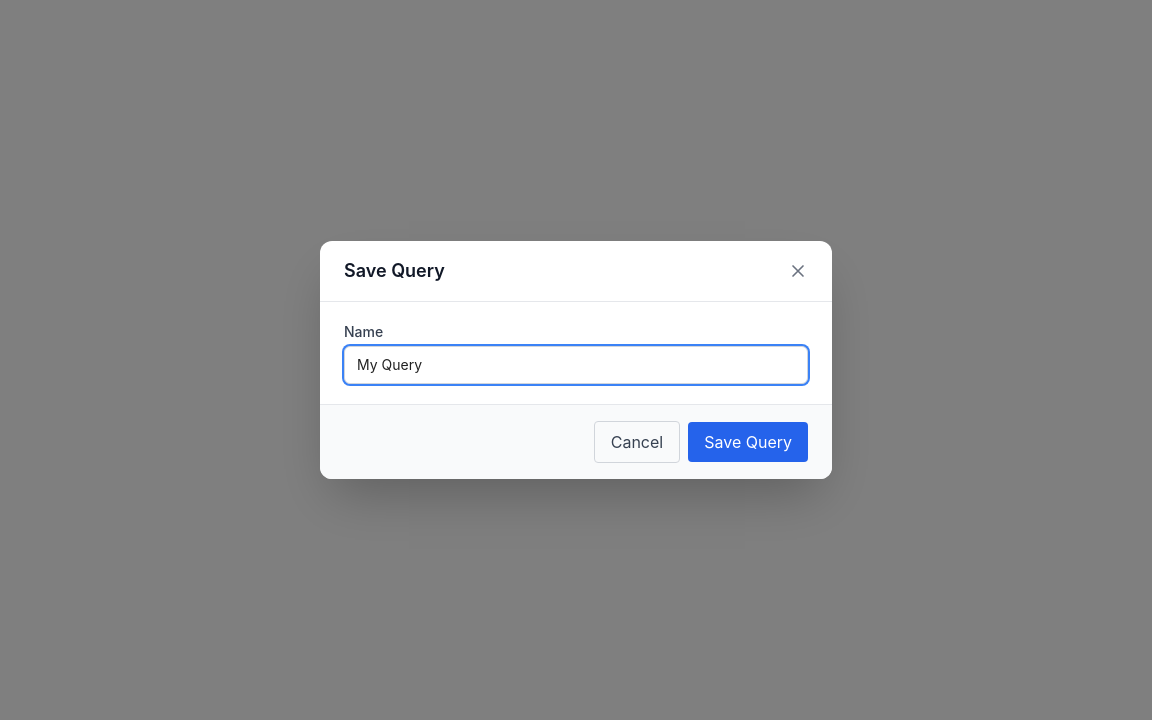
Test: SaveQueryModal Component › Form Validation › shows error for empty name
Clear the name field first
Clear the field labelled "Name": (576, 365) [344,346,808,384]
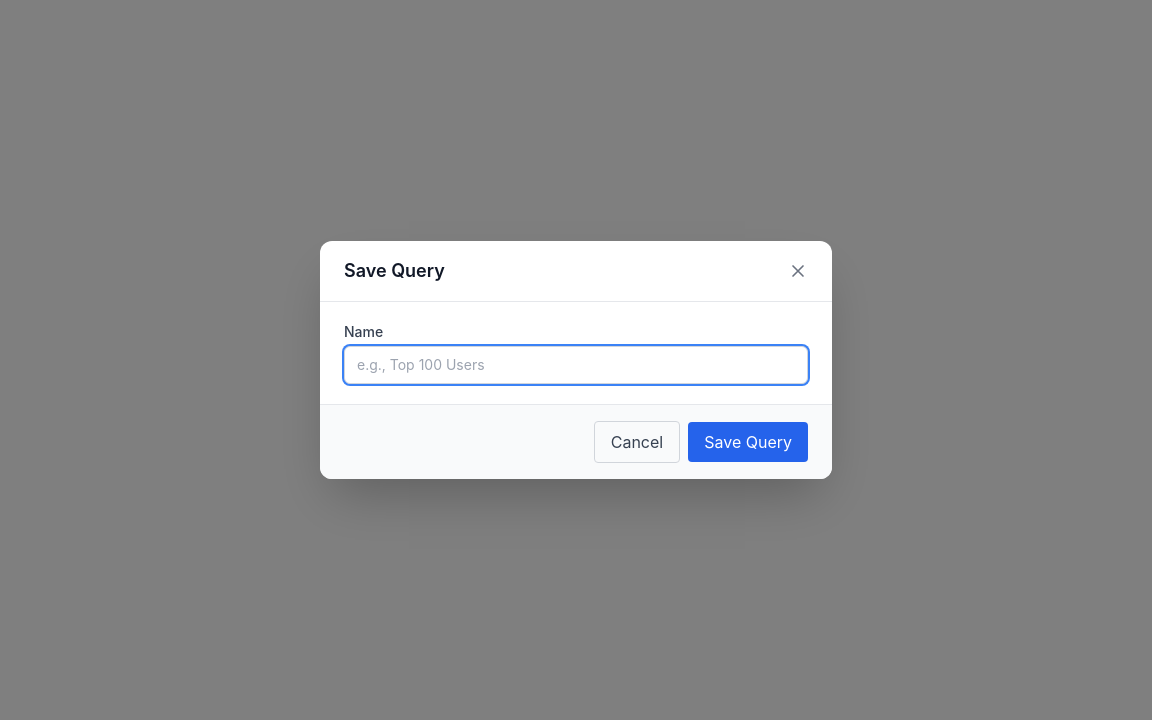
Submit the form, box [320,241,832,479]
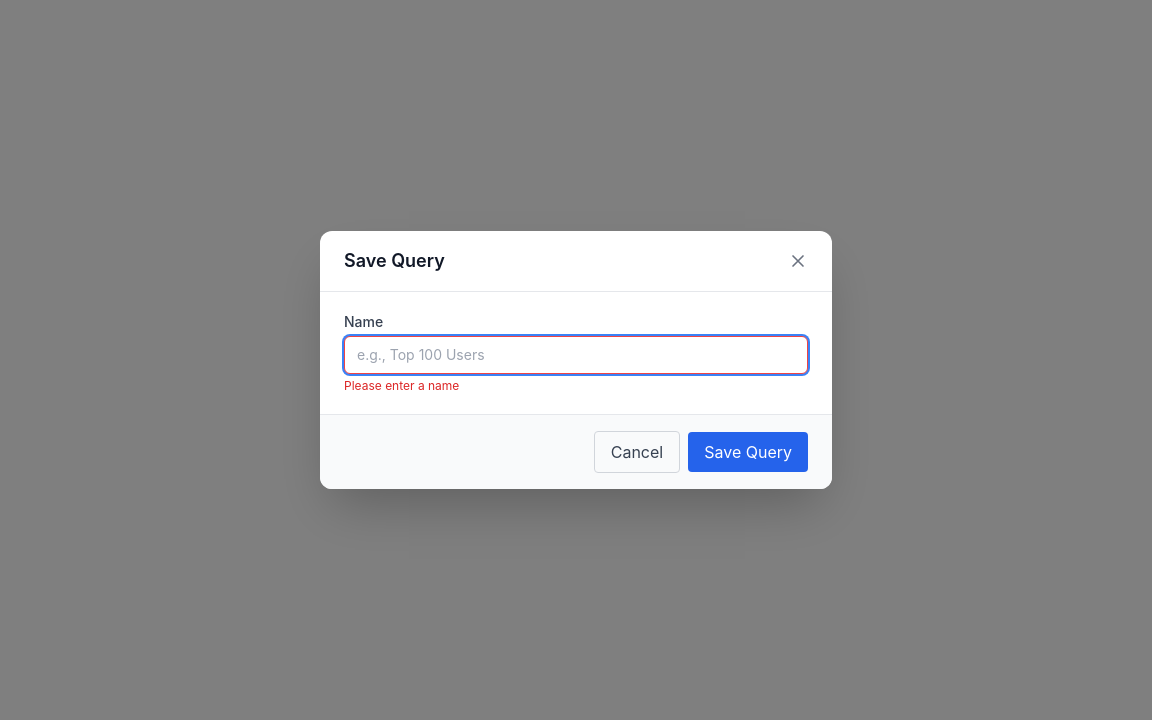
Check: the text "Please enter a name" is shown, box [344,378,459,393]
